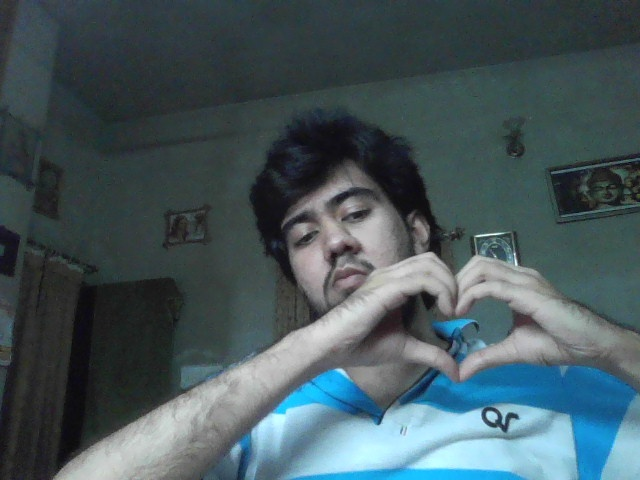Love: (338, 252, 589, 383)
